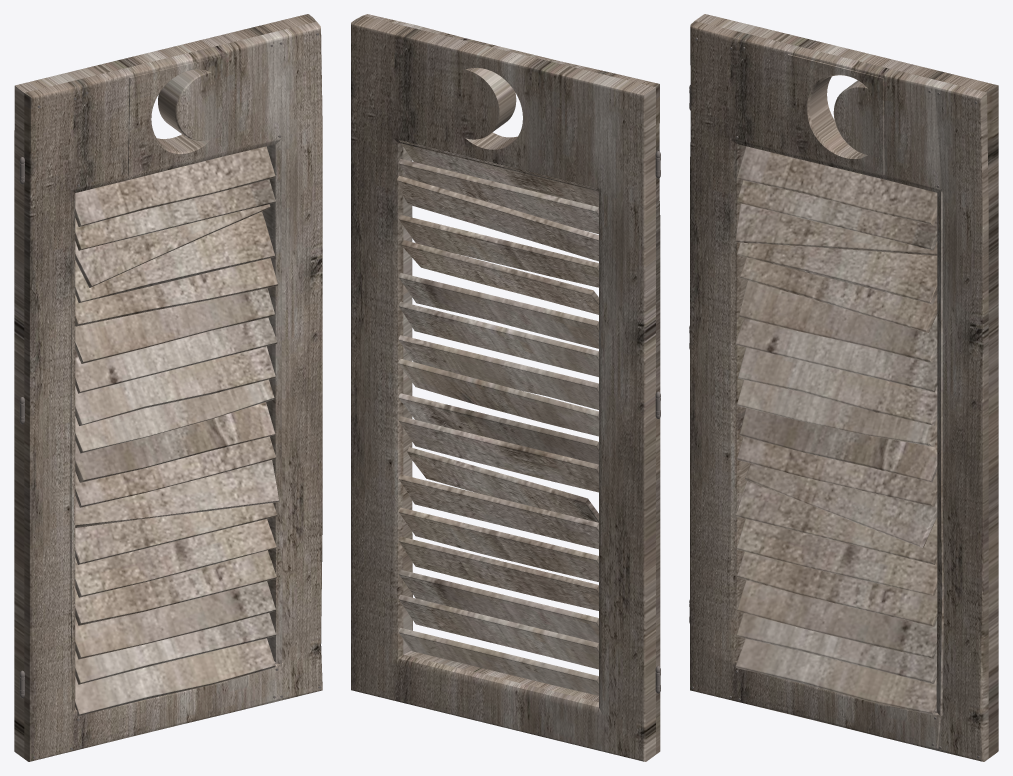
The model's file is OHdoorTextured.fbx.
3 renders of one model, left to right at view 1: azimuth 30°, elevation 25°; view 2: azimuth 150°, elevation 25°; view 3: azimuth 330°, elevation 25°, orthographic.
Visible parts, largest first — view 1: door, shutter17, shutter12, shutter2, shutter4, shutter10, shutters, shutter8, shutter6, shutter14, shutter3, shutter11 (+7 smaller); view 2: door, shutter7, shutter3, shutter15, shutter5, shutter12, shutter4, shutter11, shutter1, shutter9, shutter10, shutter14 (+7 smaller); view 3: door, shutter17, shutter12, shutter4, shutter10, shutter2, shutters, shutter14, shutter8, shutter3, shutter11, shutter6 (+7 smaller).
Boxes of the visible parts, bbox=[...] form: door: bbox=[14, 14, 322, 761]; shutter17: bbox=[75, 146, 275, 226]; shutter12: bbox=[75, 288, 274, 363]; shutter2: bbox=[75, 581, 275, 659]; shutter4: bbox=[75, 519, 276, 597]; shutter10: bbox=[75, 346, 275, 425]; shutters: bbox=[75, 638, 275, 716]; shutter8: bbox=[75, 402, 275, 482]; shutter6: bbox=[75, 460, 279, 527]; shutter14: bbox=[75, 211, 274, 302]; shutter3: bbox=[75, 550, 276, 625]; shutter11: bbox=[75, 317, 277, 393]; door: bbox=[351, 14, 660, 761]; shutter7: bbox=[398, 416, 598, 492]; shutter3: bbox=[398, 536, 598, 610]; shutter15: bbox=[397, 176, 598, 261]; shutter5: bbox=[398, 474, 598, 549]; shutter12: bbox=[398, 273, 598, 348]; shutter4: bbox=[398, 507, 598, 581]; shutter11: bbox=[398, 301, 598, 376]; shutter1: bbox=[398, 595, 598, 669]; shutter9: bbox=[398, 358, 598, 436]; shutter10: bbox=[398, 335, 598, 409]; shutter14: bbox=[398, 215, 598, 287]; door: bbox=[690, 14, 998, 761]; shutter17: bbox=[737, 146, 937, 225]; shutter12: bbox=[739, 281, 937, 363]; shutter4: bbox=[736, 519, 937, 595]; shutter10: bbox=[738, 347, 937, 425]; shutter2: bbox=[737, 580, 936, 658]; shutters: bbox=[735, 639, 936, 714]; shutter14: bbox=[737, 242, 937, 304]; shutter8: bbox=[739, 408, 937, 482]; shutter3: bbox=[737, 551, 937, 626]; shutter11: bbox=[735, 318, 937, 392]; shutter6: bbox=[745, 463, 937, 547].
Size of the model in its own units: 5.67 by 12.09 by 1.09.
2 materials, 1 textured.
